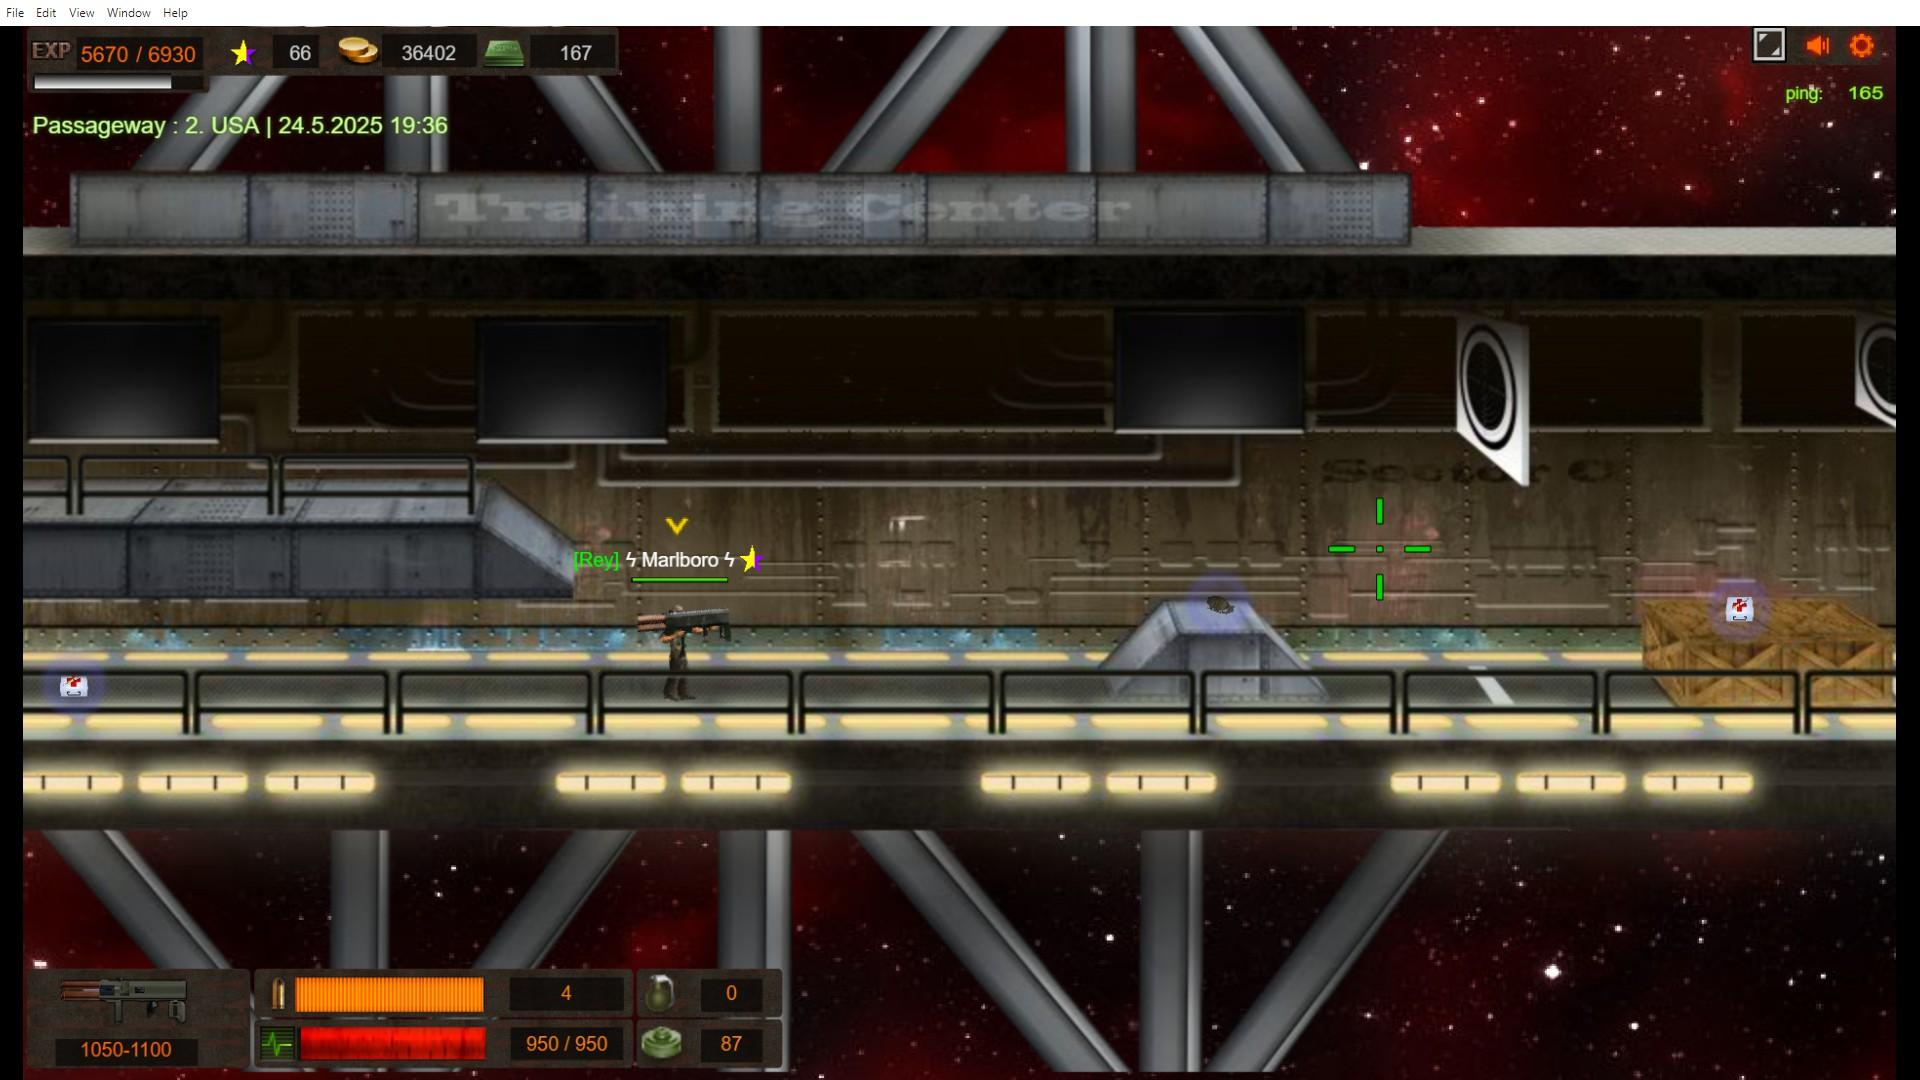enemy: (665, 604, 695, 704)
